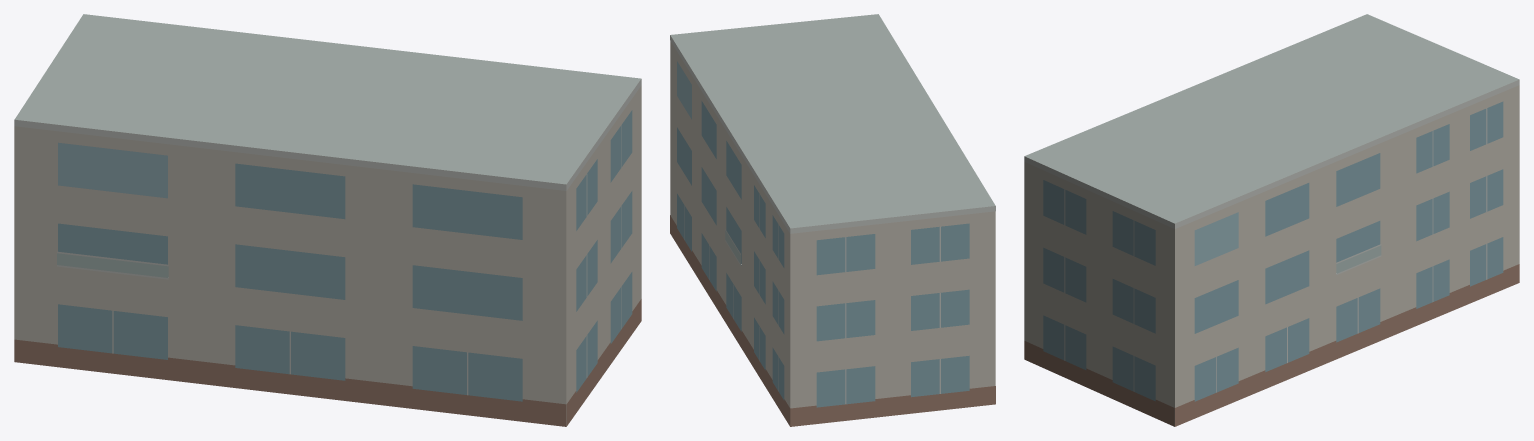
The model's file is survey-upis-32661021.glb.
3 renders of one model, left to right at view 1: azimuth 30°, elevation 25°; view 2: azimuth 150°, elevation 25°; view 3: azimuth 270°, elevation 25°, orthographic. The views are drawn at different scales.
Visible parts, largest first — view 1: survey-upis-32661021.tmp; view 2: survey-upis-32661021.tmp; view 3: survey-upis-32661021.tmp.
Boxes of the visible parts, x1,y1,x2,y2 form: survey-upis-32661021.tmp: [14, 14, 641, 426]; survey-upis-32661021.tmp: [670, 14, 995, 426]; survey-upis-32661021.tmp: [1024, 14, 1519, 426].
Size of the model in its own units: 19.92 by 9 by 19.89.
